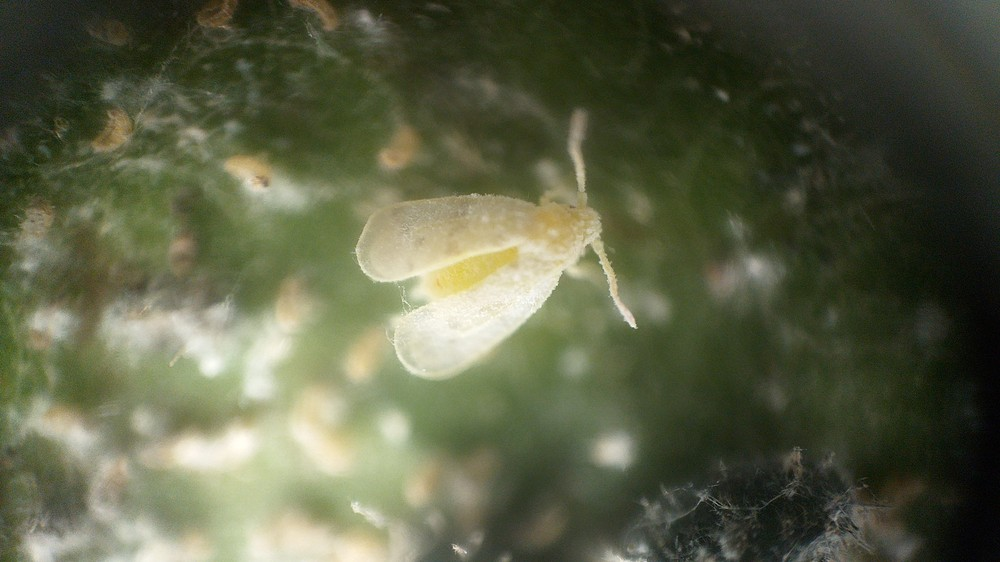Mosca Blanca: (329, 93, 675, 395)
